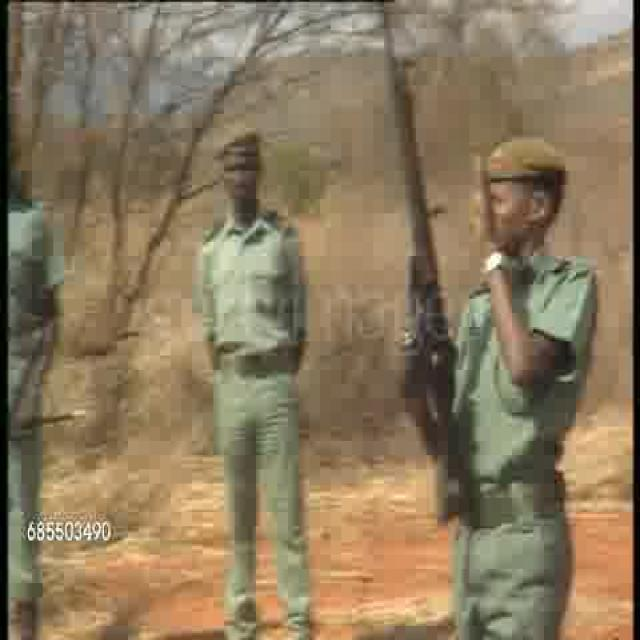poacher: (453, 126, 604, 580), (192, 105, 314, 604)
weapon: (377, 2, 468, 516)
